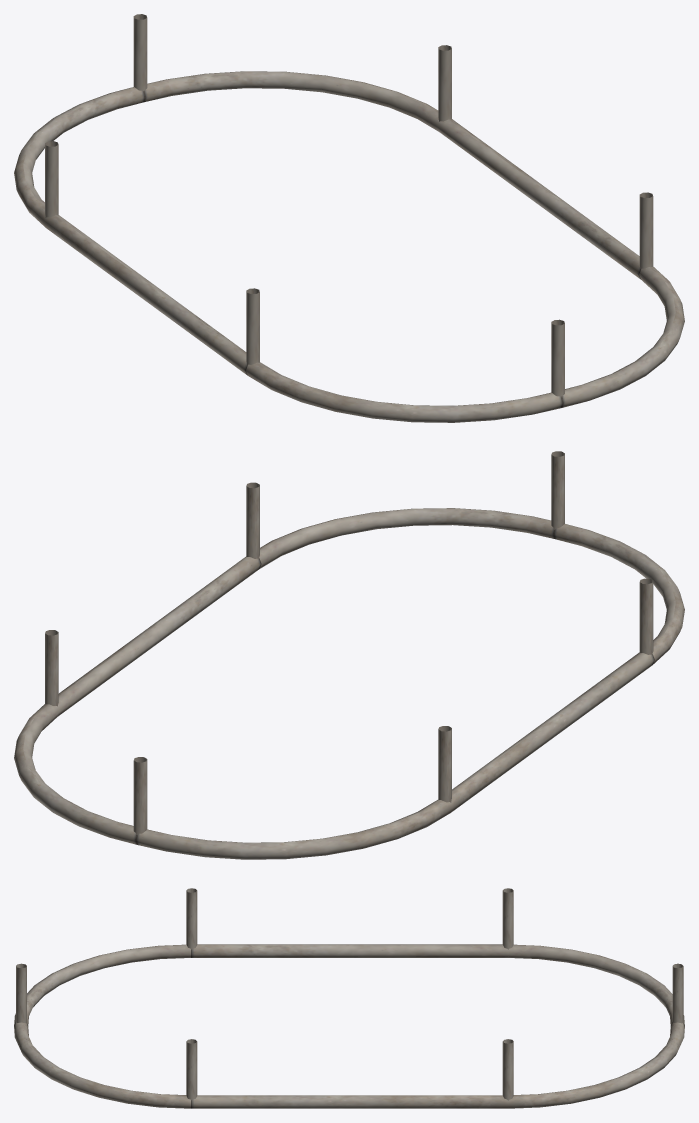
Rendered from lighting_rig_infirmary_special_02.dae.
3 views of the same model, one above another, from view 1: azimuth 30°, elevation 25°; view 2: azimuth 150°, elevation 25°; view 3: azimuth 270°, elevation 25° (orthographic). The views are drawn at different scales.
Visible parts, largest first — view 1: 2; view 2: 2; view 3: 2.
Part boxes in pixels (x1,y1,x2,y2): 2: [14, 14, 684, 422]; 2: [14, 451, 684, 859]; 2: [14, 888, 684, 1108].
Bounding box in the file's own units: 2.86 × 0.5705 × 5.17.
